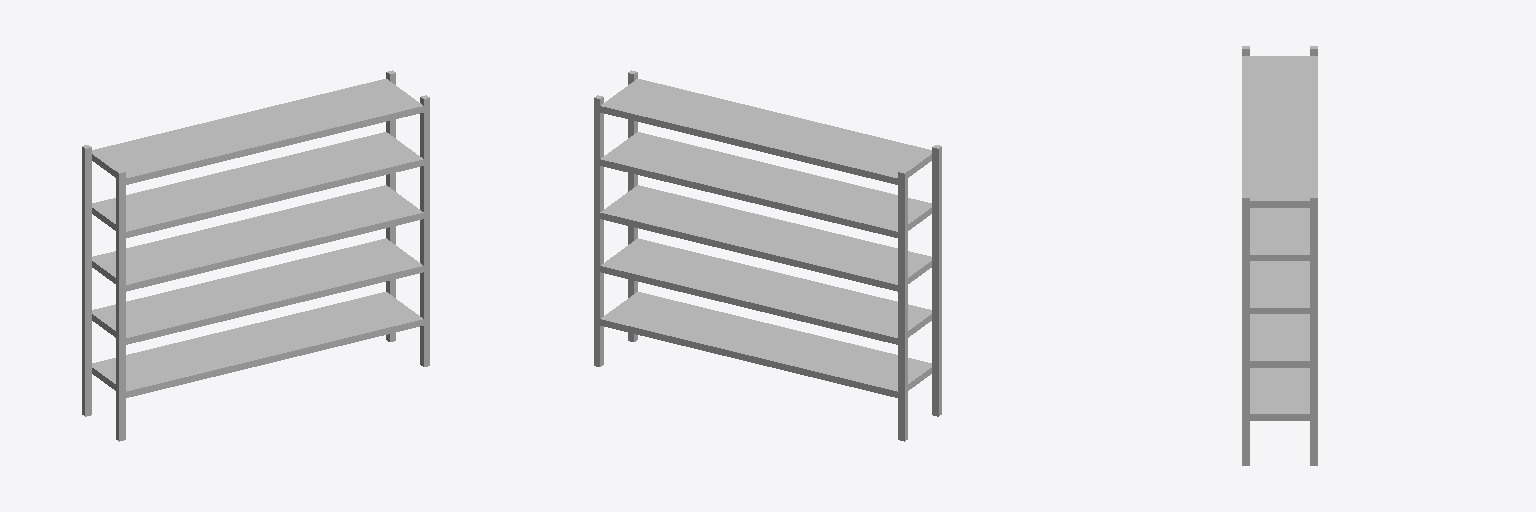
Rendered from szafka.obj.
3 renders of one model, left to right at view 1: azimuth 30°, elevation 25°; view 2: azimuth 150°, elevation 25°; view 3: azimuth 270°, elevation 25°, orthographic.
Parts seen in each view (by area): view 1: Shelves1.001, Shelves1; view 2: Shelves1.001, Shelves1; view 3: Shelves1.001, Shelves1.
Boxes of the visible parts, x1=… form: Shelves1.001: x1=92, y1=79, x2=423, y2=397; Shelves1: x1=82, y1=70, x2=429, y2=441; Shelves1.001: x1=600, y1=79, x2=931, y2=397; Shelves1: x1=594, y1=70, x2=941, y2=441; Shelves1.001: x1=1242, y1=56, x2=1317, y2=420; Shelves1: x1=1242, y1=46, x2=1317, y2=465.
Size of the model in its own units: 1.48 by 1.22 by 0.31.